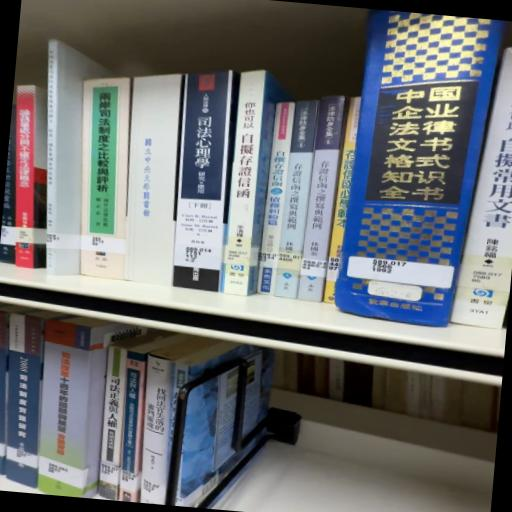backward: (117, 74, 190, 291)
book: (171, 72, 243, 301), (219, 67, 280, 299), (74, 75, 143, 237), (135, 353, 181, 506), (4, 87, 46, 237)
